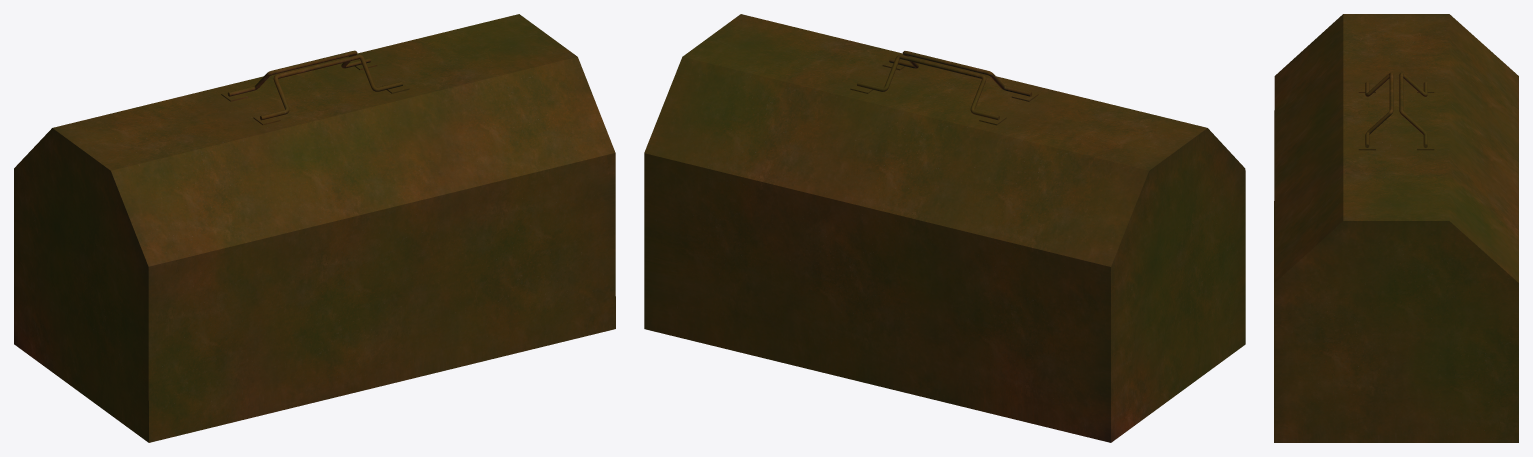
Rendered from toolbox.fbx.
The picture shows the model from 3 angles, left to right: view 1: azimuth 30°, elevation 25°; view 2: azimuth 150°, elevation 25°; view 3: azimuth 270°, elevation 25°; orthographic projection. The views are drawn at different scales.
Visible parts, largest first — view 1: Osnov_Yahik_low; view 2: Osnov_Yahik_low; view 3: Osnov_Yahik_low.
Boxes of the visible parts, x1,y1,x2,y2 form: Osnov_Yahik_low: (14,14,615,442); Osnov_Yahik_low: (644,14,1245,442); Osnov_Yahik_low: (1274,14,1518,442).
Bounding box in the file's own units: 39.98 × 22.39 × 19.99.
